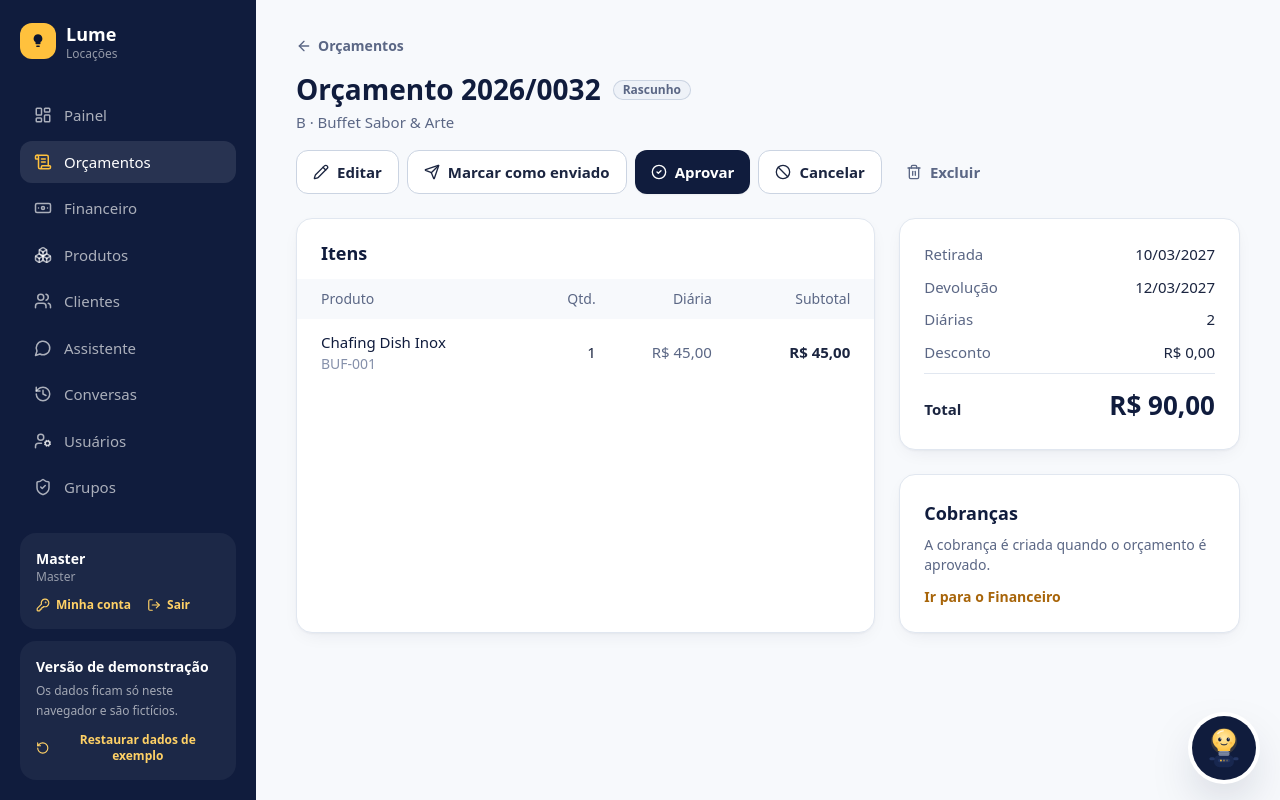
Orçamentos › mostra o estoque que falta ao tentar aprovar sem disponibilidade
Click the button "Aprovar" at [692, 172], box [635,150,750,194]
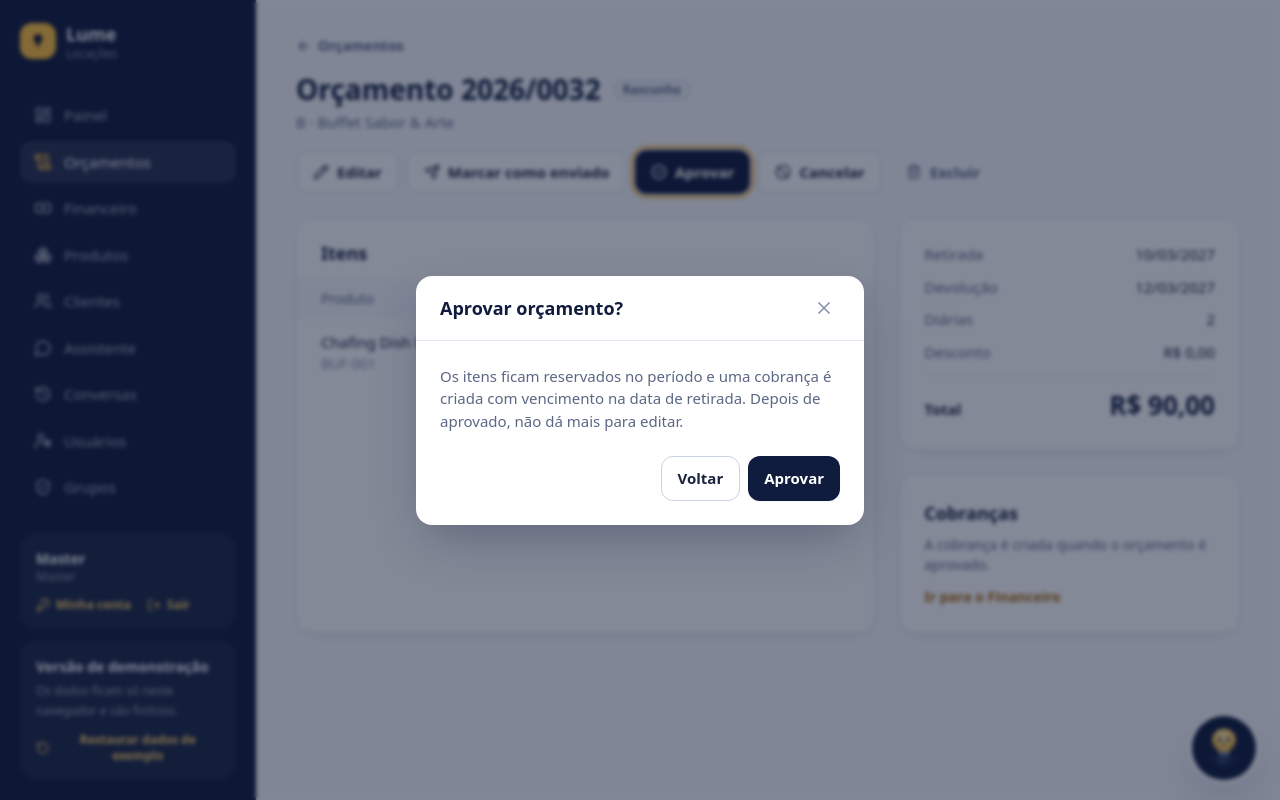
Click the button "Aprovar" at [794, 478], box [748,456,840,500]
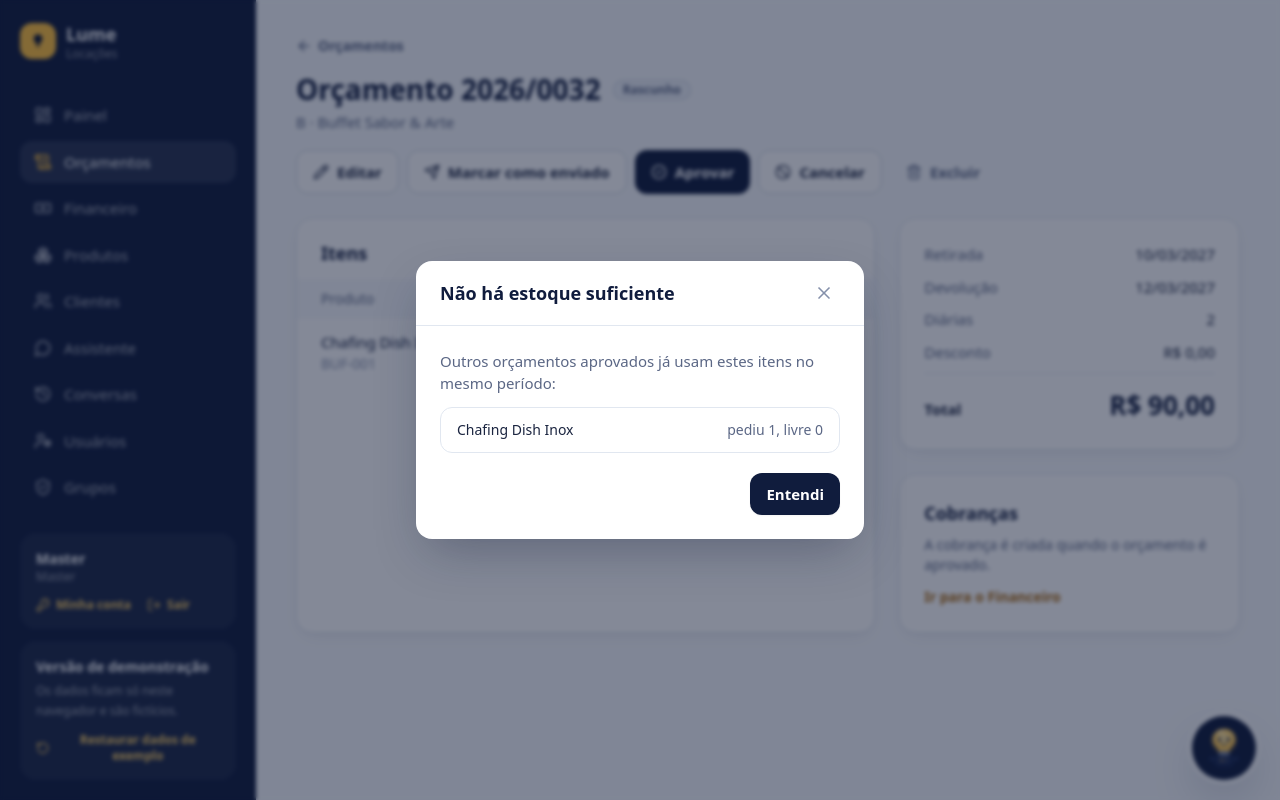
Expected: the text "Chafing Dish Inox" is shown, [457,420,574,440]
Expected: the text "pediu 1, livre 0" is shown, [727,420,823,440]
